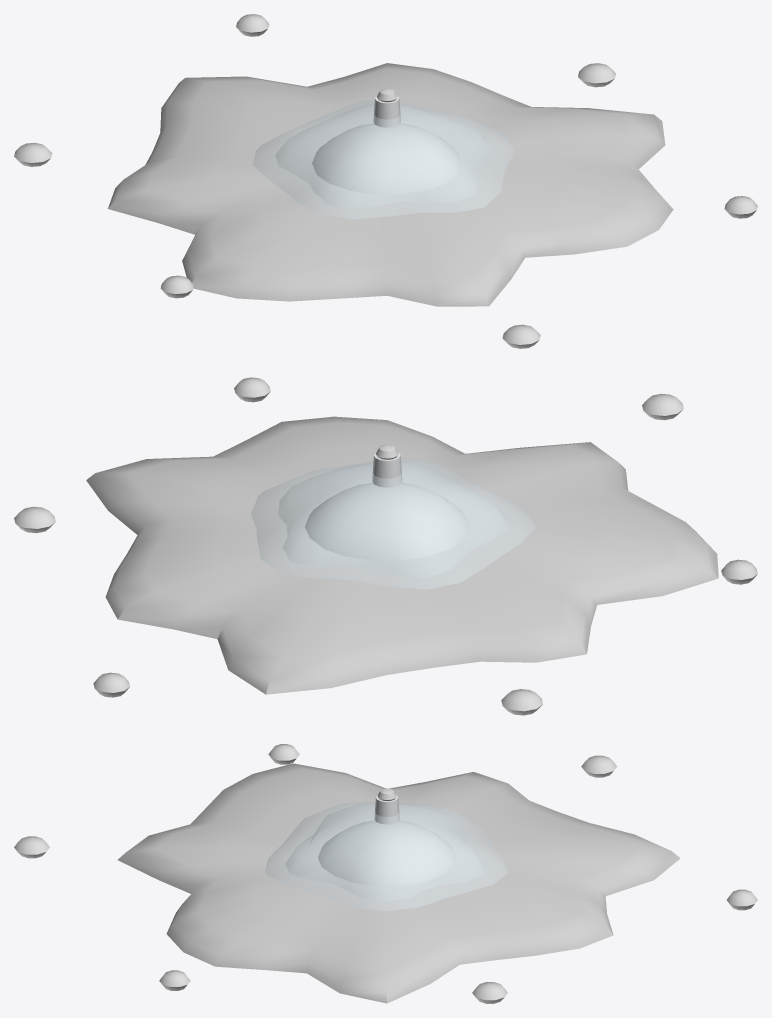
The model's file is sub_jelly_charge.glb.
The picture shows the model from 3 angles, top to bottom: view 1: azimuth 30°, elevation 25°; view 2: azimuth 150°, elevation 25°; view 3: azimuth 270°, elevation 25°; orthographic projection. The views are drawn at different scales.
Parts seen in each view (by area): view 1: jelly_puddle, sub_jelly_charge; view 2: jelly_puddle, sub_jelly_charge; view 3: jelly_puddle, sub_jelly_charge.
Boxes of the visible parts, bbox=[...] form: jelly_puddle: bbox=[14, 14, 757, 348]; sub_jelly_charge: bbox=[276, 88, 490, 208]; jelly_puddle: bbox=[14, 377, 757, 715]; sub_jelly_charge: bbox=[278, 444, 509, 577]; jelly_puddle: bbox=[14, 744, 757, 1003]; sub_jelly_charge: bbox=[286, 788, 484, 901].
Size of the model in its own units: 0.7943 by 0.234 by 0.9906.
